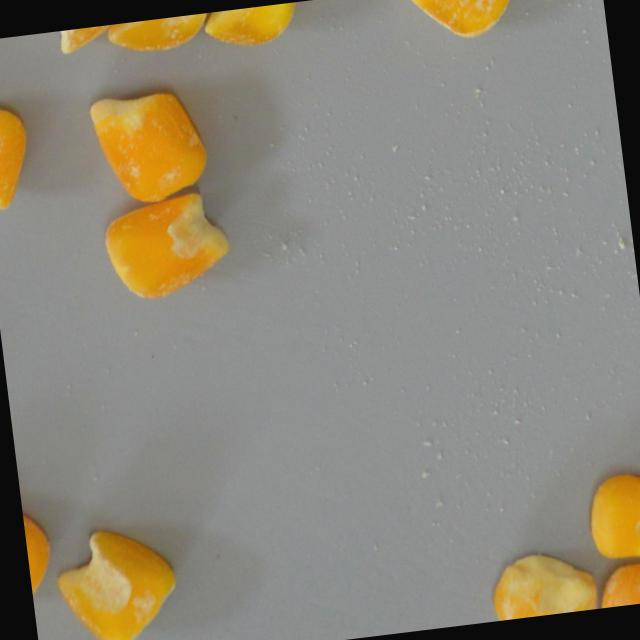no_canjicado: (585, 470, 640, 562)
pelicula: (51, 519, 185, 640), (99, 186, 234, 304), (89, 88, 213, 209), (488, 546, 597, 621), (93, 11, 216, 59), (399, 0, 524, 45), (203, 0, 302, 51), (19, 487, 58, 609), (0, 98, 37, 211), (17, 22, 124, 60), (594, 562, 640, 608)
